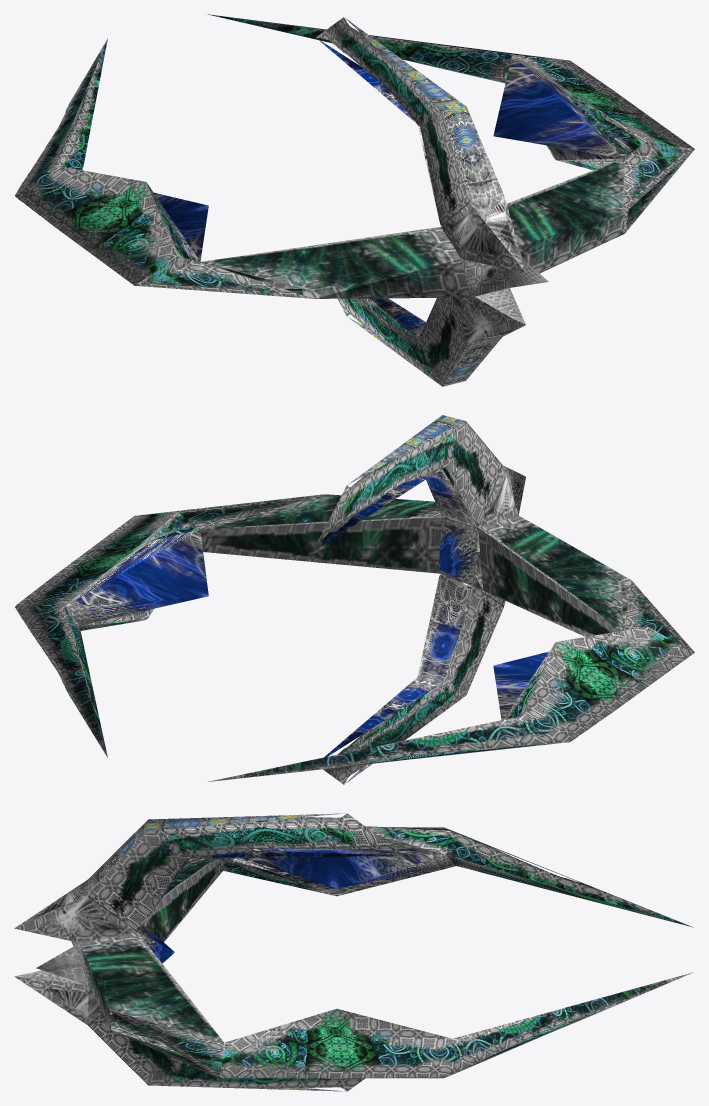
File: AlienLegerCollider.fbx
3 renders of one model, top to bottom at view 1: azimuth 30°, elevation 25°; view 2: azimuth 150°, elevation 25°; view 3: azimuth 270°, elevation 25°, orthographic. The views are drawn at different scales.
Parts seen in each view (by area): view 1: AlienLegerCollider; view 2: AlienLegerCollider; view 3: AlienLegerCollider.
Boxes of the visible parts, x1=… form: AlienLegerCollider: x1=15, y1=14, x2=694, y2=386; AlienLegerCollider: x1=15, y1=415, x2=694, y2=784; AlienLegerCollider: x1=14, y1=813, x2=693, y2=1091.
Size of the model in its own units: 534 by 274 by 610.
